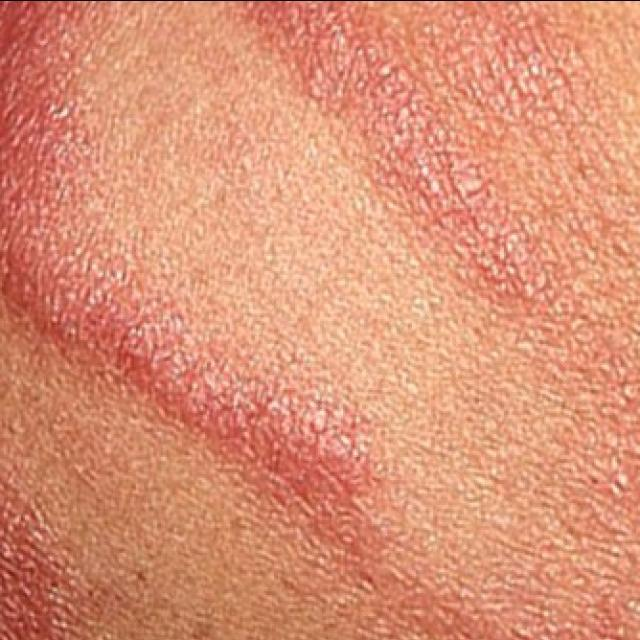Leprosy: (203, 0, 615, 322), (147, 290, 391, 640), (0, 0, 143, 423), (0, 471, 107, 639)
